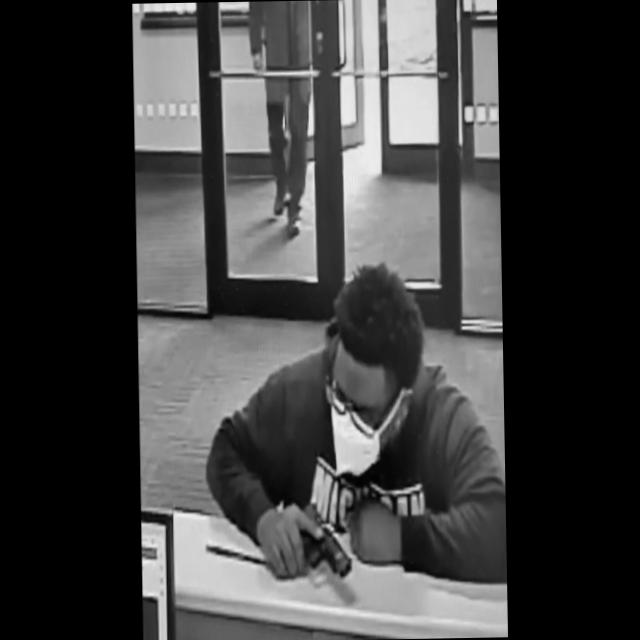gun: (278, 499, 353, 582)
person with a gun: (203, 260, 507, 587)
